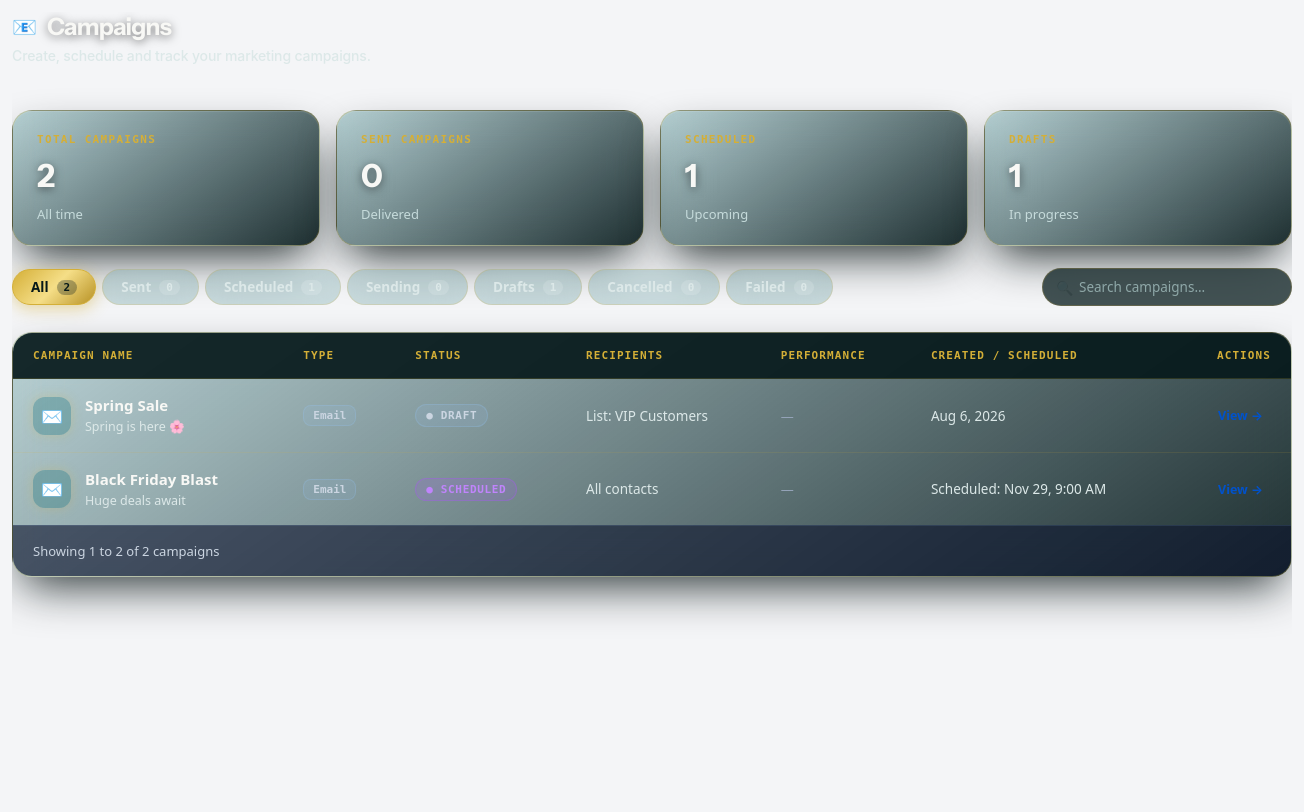
CampaignsPage › Scheduled filter tab shows only SCHEDULED campaigns
expect the link "Spring Sale" is shown: met, box [85,395,168,415]
Click the tab "Scheduled 1" at (273, 287), box [205,269,341,305]
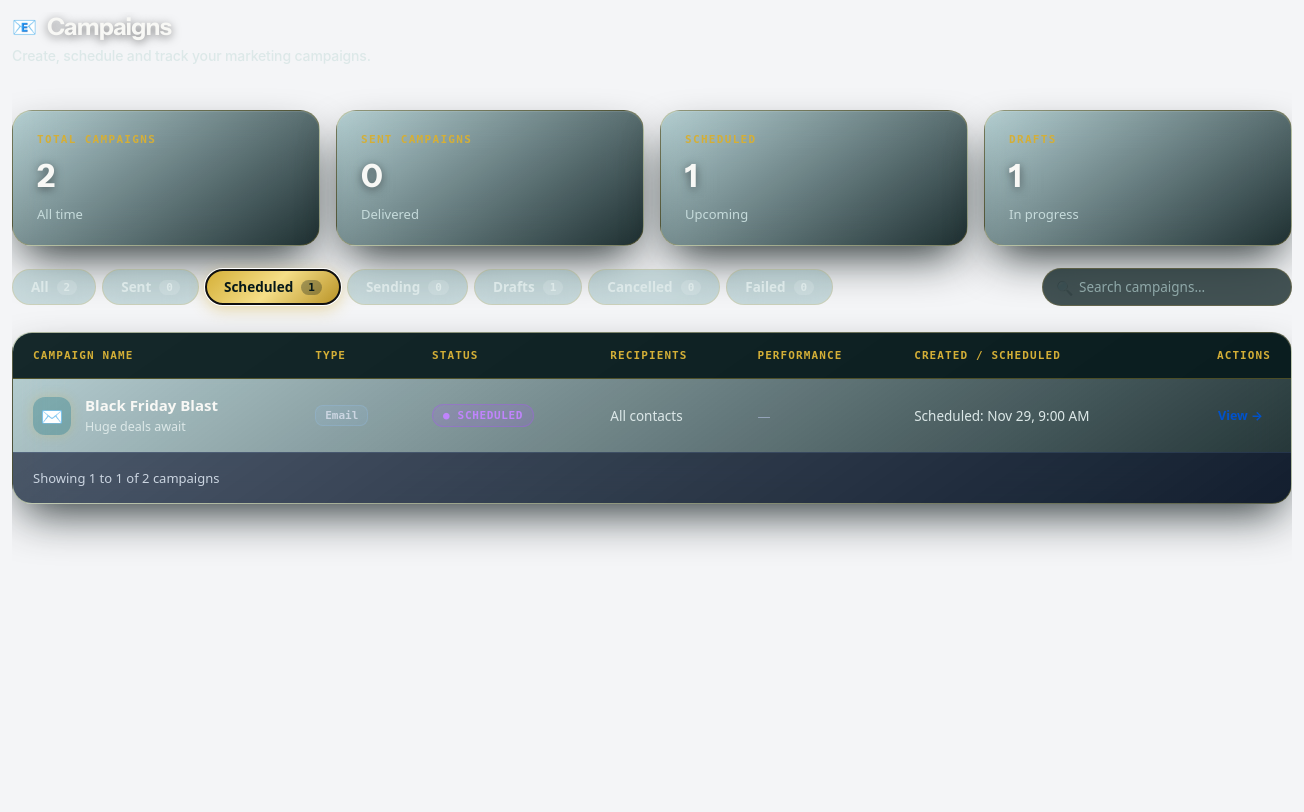
expect the link "Black Friday Blast" is shown: met, box [85,395,218,415]
expect the link "Spring Sale" is gone: met
